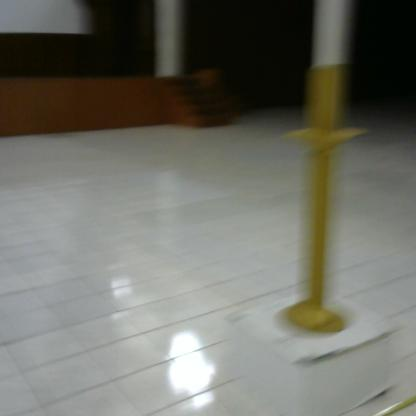pole: (281, 56, 368, 340)
